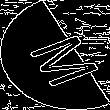M_NE: (12, 23, 98, 87)
